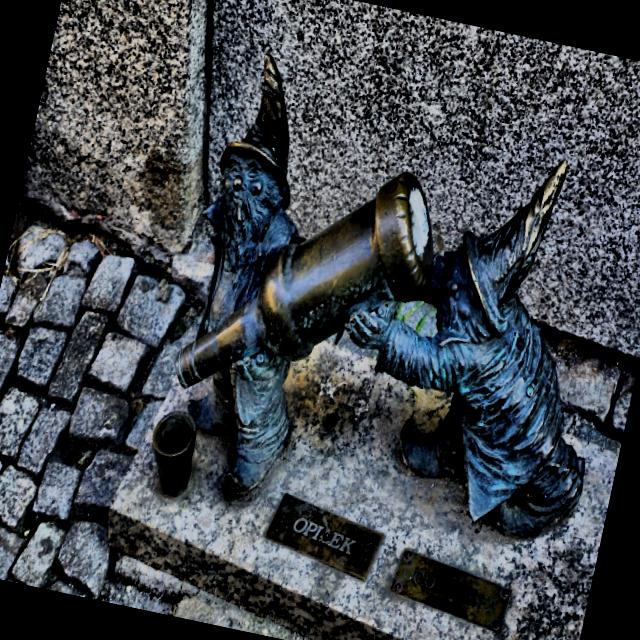Ogorzalek_i_Opilek: (175, 57, 585, 537)
